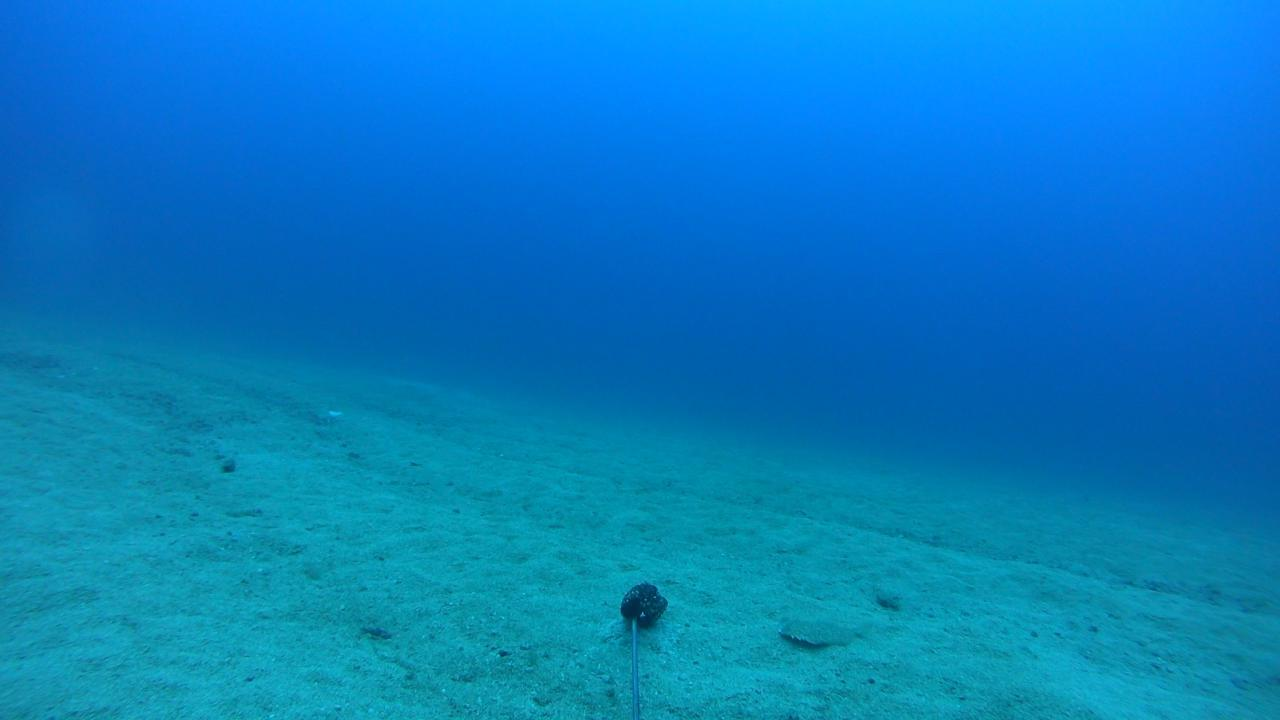bothus: (770, 609, 875, 654)
